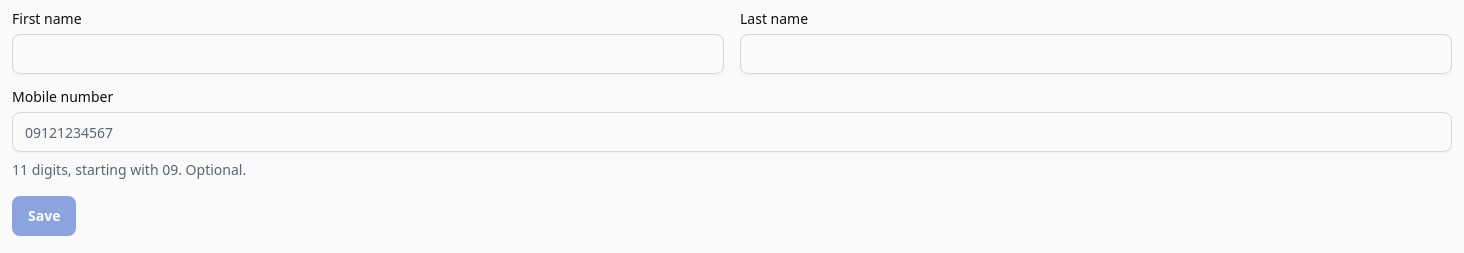
Test case: PersonalForm › after saving, shows what was stored and is clean again
This screenshot has width=1464, height=253.
Step 1. Type "۰۹۱۲ ۱۲۳ ۴۵۶۷" into the field labelled "Mobile number" → (732, 132), box [12,112,1452,152]
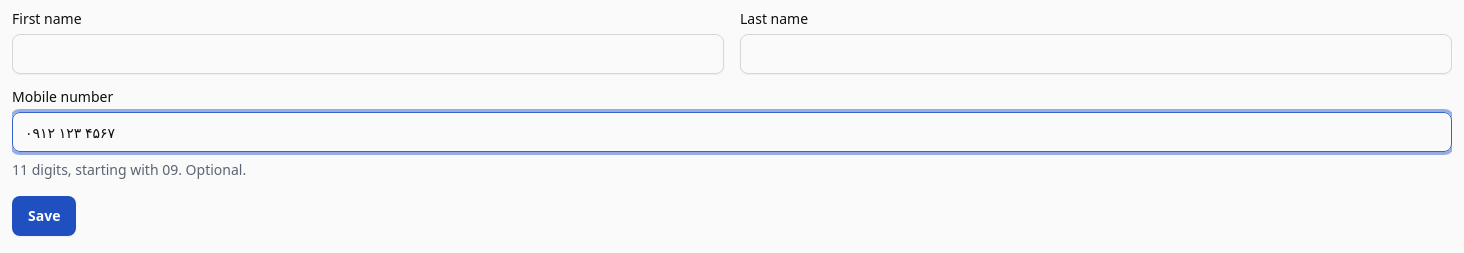
Step 2. Click the button "Save" → (44, 216), box [12,196,76,236]
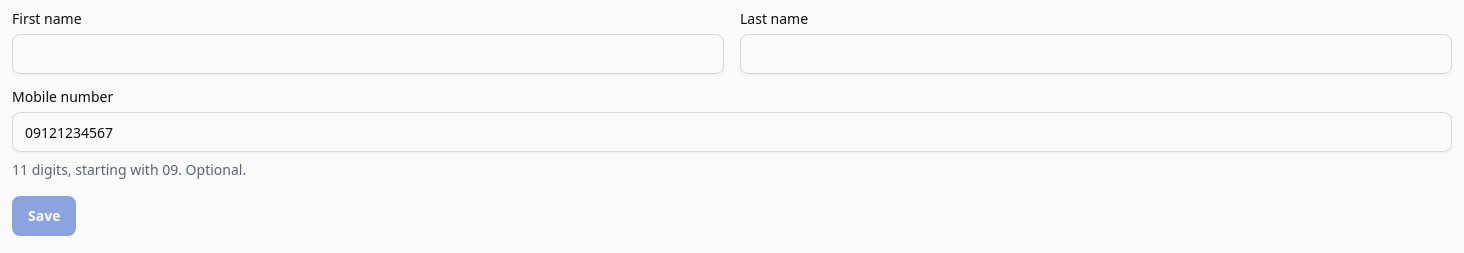
Now the field labelled "Mobile number" holds "09121234567", box [12,112,1452,152]
Now the button "Save" is disabled, box [12,196,76,236]
